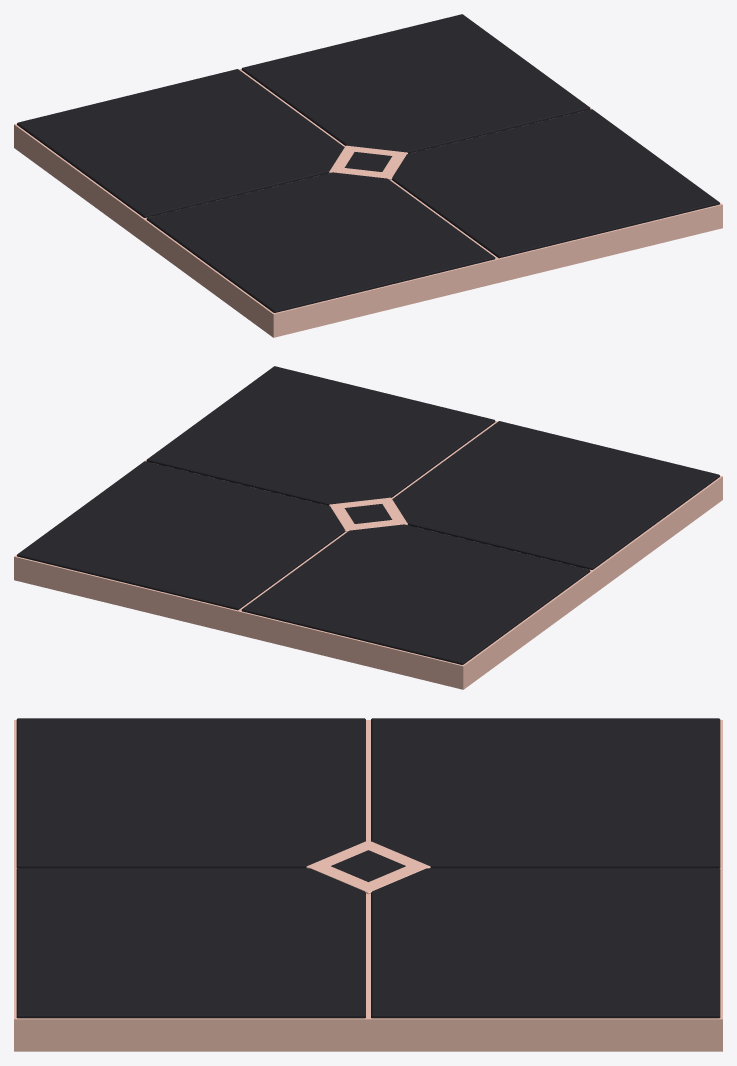
File: floor_onyx.glb
3 renders of one model, top to bottom at view 1: azimuth 30°, elevation 25°; view 2: azimuth 150°, elevation 25°; view 3: azimuth 270°, elevation 25°, orthographic. The views are drawn at different scales.
Visible parts, largest first — view 1: floor_onyx; view 2: floor_onyx; view 3: floor_onyx.
Part boxes in pixels (x1,y1,x2,y2): floor_onyx: (14,14,722,337); floor_onyx: (14,366,722,689); floor_onyx: (14,718,722,1051).
Size of the model in its own units: 4 by 0.223 by 4.
